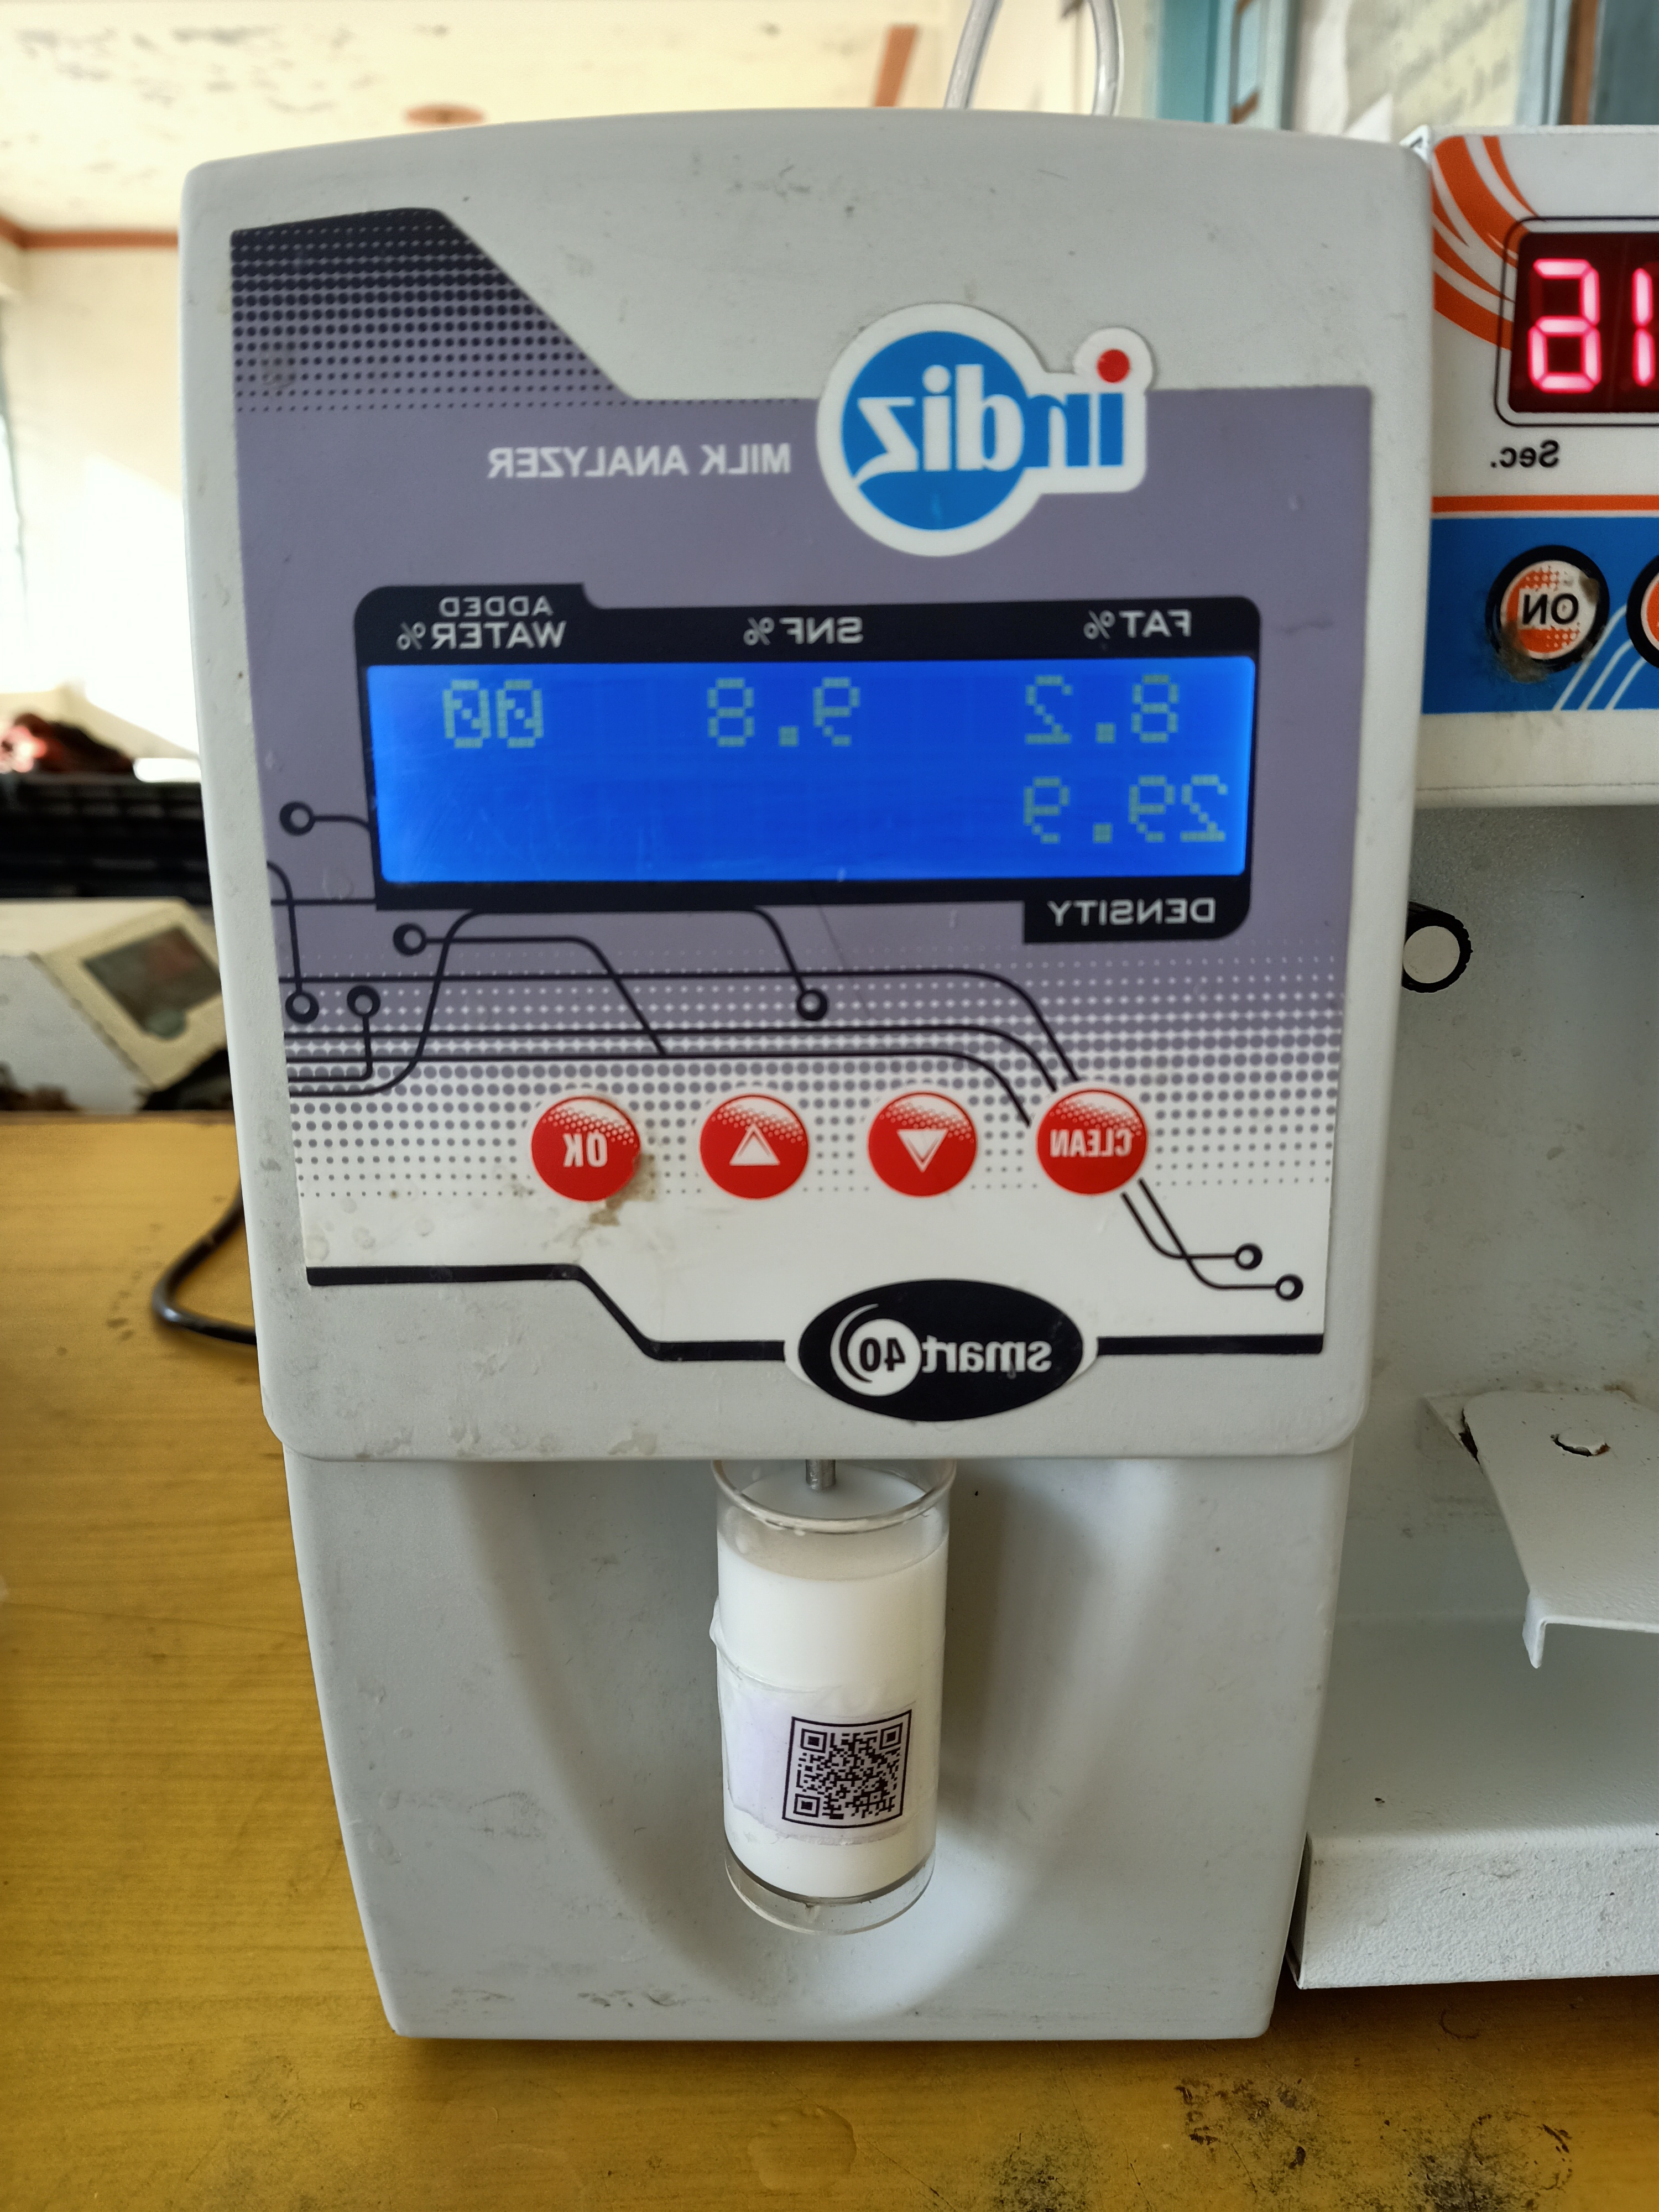lcd: (368, 590, 1260, 965)
qr: (779, 1717, 927, 1839)
